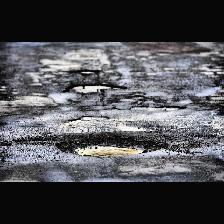pothole: (56, 136, 166, 156), (62, 84, 126, 92), (130, 104, 186, 110), (68, 116, 108, 122), (74, 69, 100, 73)
